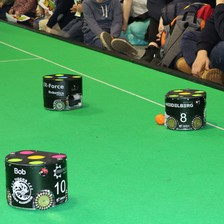ball: (153, 112, 166, 126)
robot: (1, 147, 71, 211), (162, 86, 209, 132), (40, 70, 87, 114)
